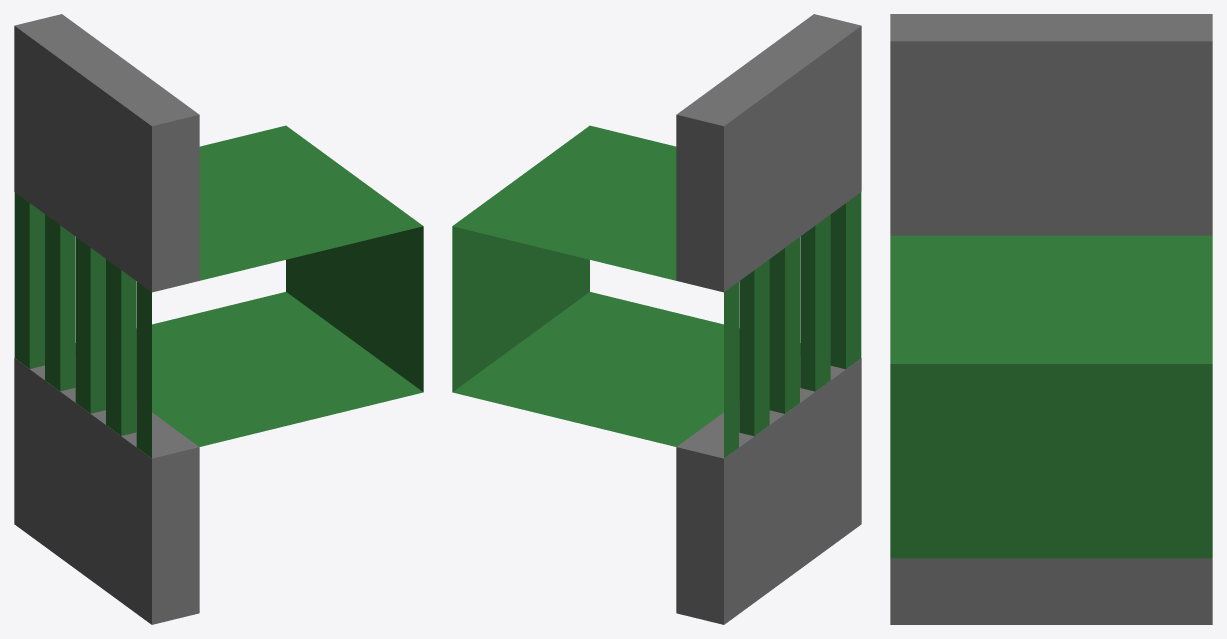
File: MeGrilleSwarmers.fbx
3 renders of one model, left to right at view 1: azimuth 30°, elevation 25°; view 2: azimuth 150°, elevation 25°; view 3: azimuth 270°, elevation 25°, orthographic. The views are drawn at different scales.
Parts seen in each view (by area): view 1: WallStandard (21); view 2: WallStandard (21); view 3: WallStandard (21).
Part boxes in pixels (x1,y1,x2,y2): WallStandard (21): (14, 14, 423, 624); WallStandard (21): (452, 14, 861, 624); WallStandard (21): (890, 14, 1212, 624).
Bounding box in the file's own units: 171 × 300 × 150.
